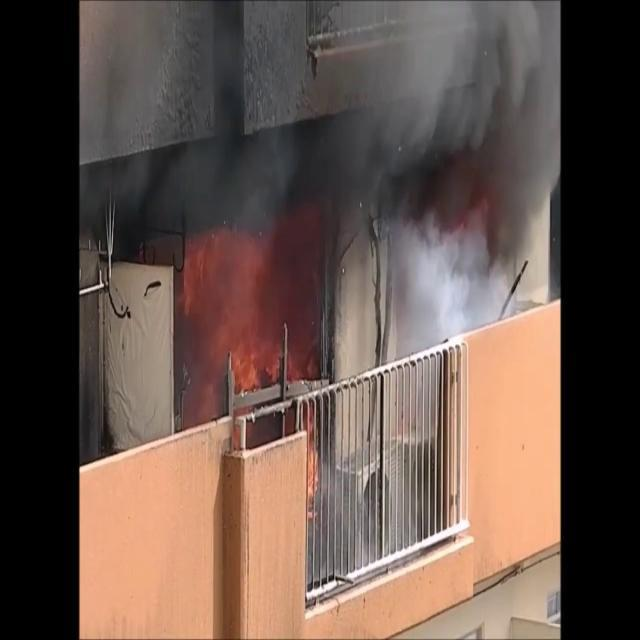Smoke: (81, 1, 560, 323)
